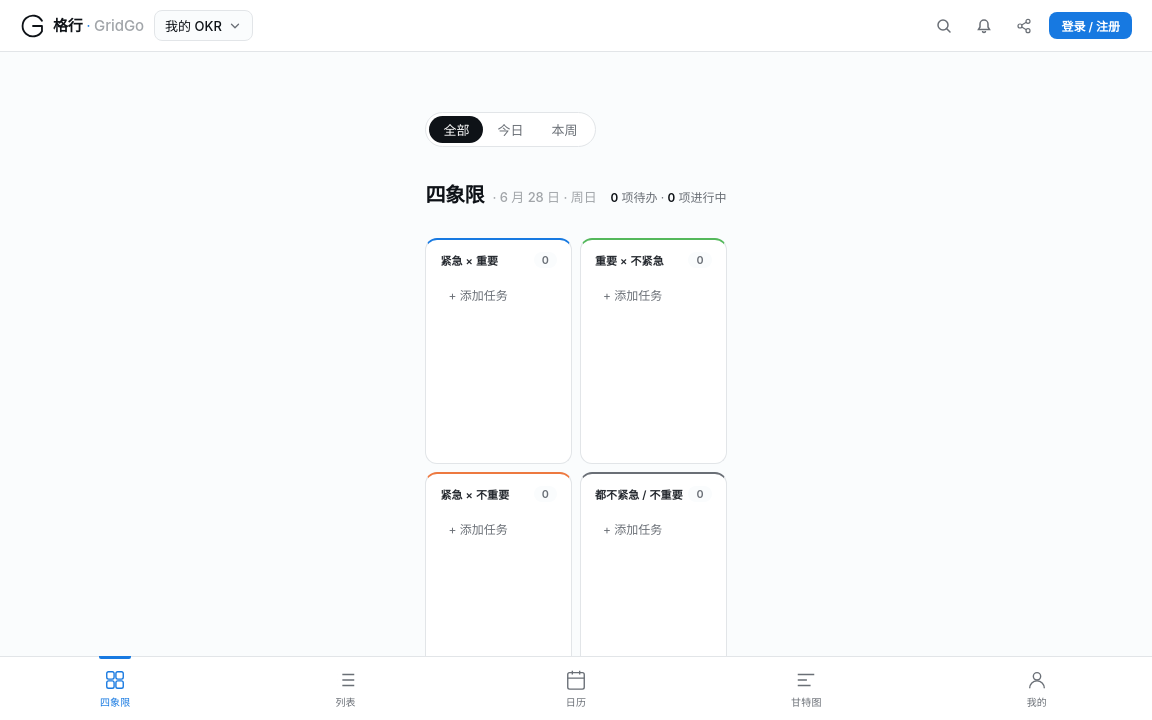
Test: 日常操作 7 步流程 › 7. 点 OKR selector 打开 OKR Manager 弹窗
The width and height of the screenshot is (1152, 720).
Click the button "我的 OKR" at (204, 26), box [154,10,253,41]
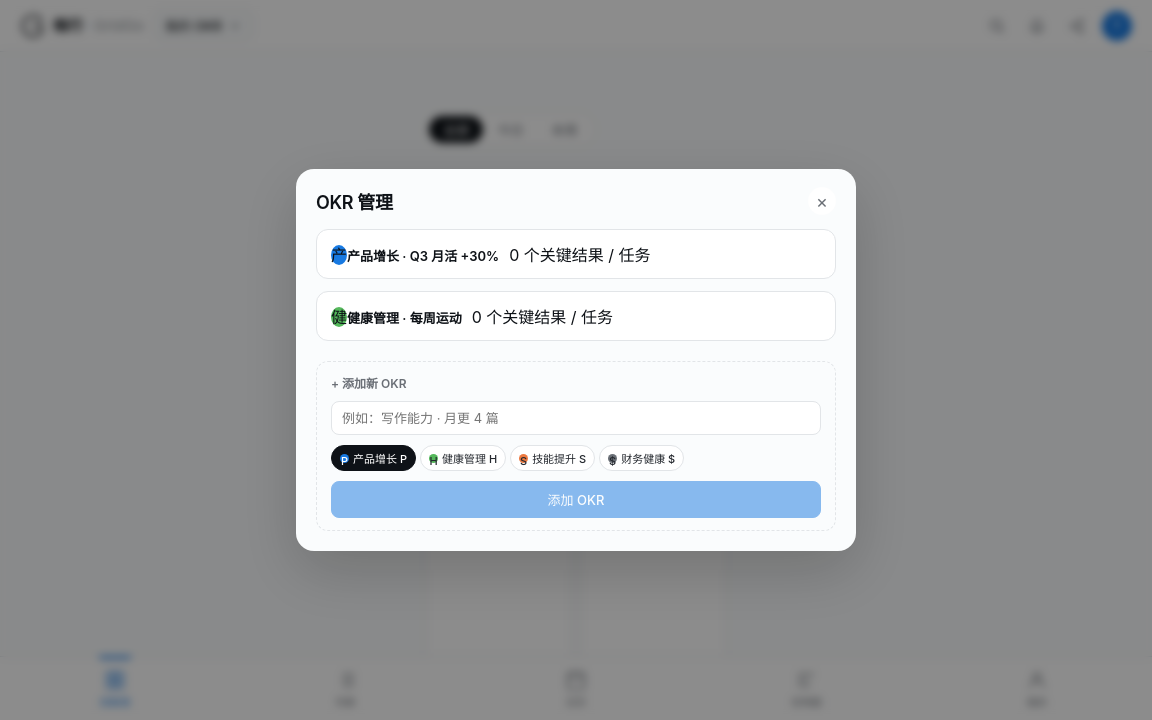
expect the heading "OKR 管理" is shown: met, box [316,188,393,214]
expect the text "+ 添加新 OKR" is shown: met, box [331,376,407,391]
